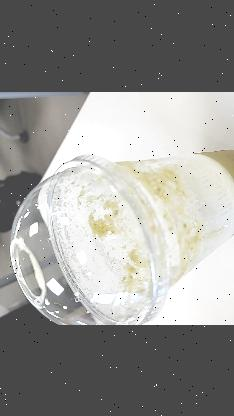Others: (11, 145, 234, 324), (9, 142, 168, 324)
